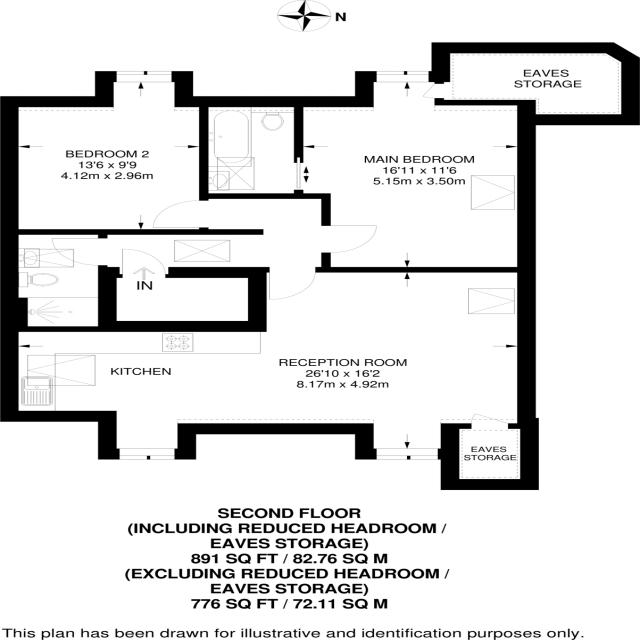DOOR: (152, 199, 209, 229), (321, 224, 378, 254), (267, 267, 318, 300), (120, 248, 168, 278)
ROOM: (0, 267, 540, 459), (292, 71, 536, 273), (1, 71, 210, 235)
WINDOW: (375, 448, 440, 460), (115, 70, 174, 83), (373, 70, 431, 83), (117, 448, 176, 460)
